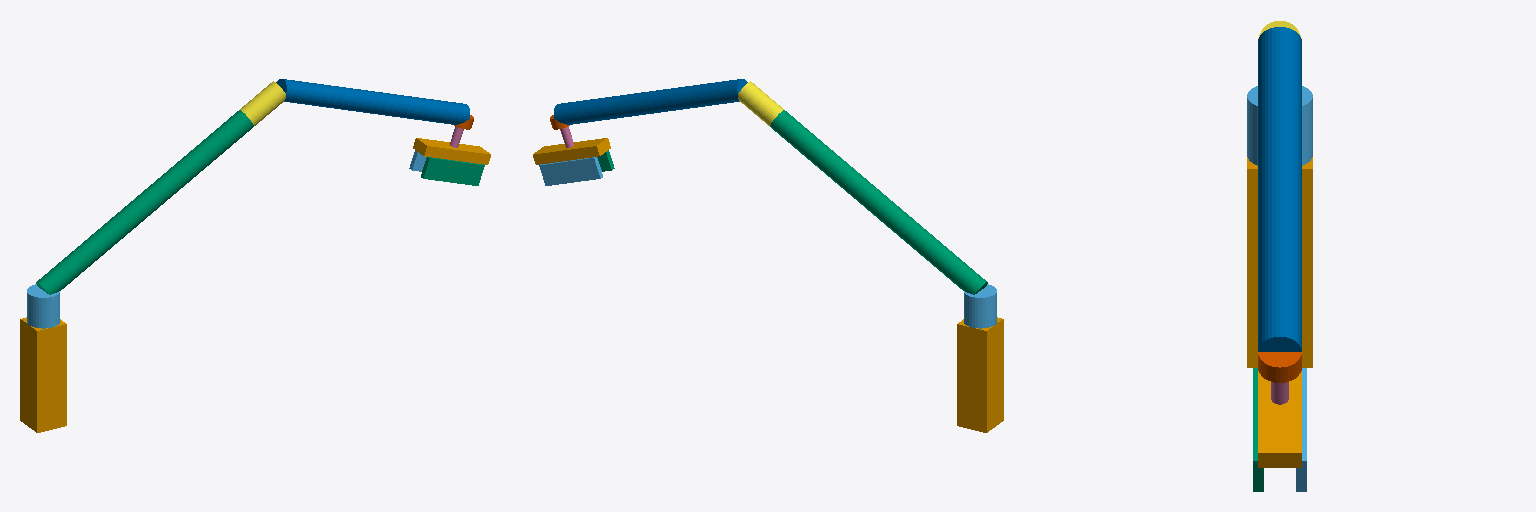
The robot description file, URDF, robot "crane":
<?xml version="1.0" ?>
<robot name="crane">
    <!-- Arm of the crane -->
    <link name="base_link">
        <visual>
            <geometry>
                <box size="1.5 1.5 5" />
            </geometry>
            <origin xyz="0 0 2.5" />
        </visual>
        <collision>
            <geometry>
                <box size="1.5 1.5 5" />
            </geometry>
            <origin xyz="0 0 2.5" />
        </collision>
        
<inertial>
            <mass value="0.1" />
            <inertia ixx="0.03" iyy="0.03" izz="0.03" ixy="0.0" ixz="0.0" iyz="0.0" />
        </inertial>

    </link>
    <joint name="base_to_link1" type="continuous">
        <axis xyz="0 0 1" />
        <parent link="base_link" />
        <child link="link1" />
        <origin xyz="0 0 5" />
    </joint>
    <link name="link1">
        <visual>
            <geometry>
                <cylinder length="1.5" radius="0.75" />
            </geometry>
            <origin rpy="0 0 0" xyz="0 0 0.75" />
        </visual>
        <collision>
            <geometry>
                <cylinder length="1.5" radius="0.75" />
            </geometry>
            <origin rpy="0 0 0" xyz="0 0 0.75" />
        </collision>
        
<inertial>
            <mass value="0.1" />
            <inertia ixx="0.03" iyy="0.03" izz="0.03" ixy="0.0" ixz="0.0" iyz="0.0" />
        </inertial>

    </link>
    <joint name="link1_to_link2" type="revolute">
        <axis xyz="0 0 1" />
        <limit effort="1000" upper="-0.175" lower="-0.873" velocity="1" />
        <parent link="link1" />
        <child link="link2" />
        <origin rpy="-1.5707963 0 0" xyz="0 0 1.5" />
    </joint>
    <link name="link2">
        <visual>
            <geometry>
                <cylinder length="12" radius="0.5" />
            </geometry>
            <origin rpy="0 -1.5707963 0" xyz="6 0 0" />
        </visual>
        <collision>
            <geometry>
                <cylinder length="12" radius="0.5" />
            </geometry>
            <origin rpy="0 -1.5707963 0" xyz="6 0 0" />
        </collision>
        
<inertial>
            <mass value="0.1" />
            <inertia ixx="0.03" iyy="0.03" izz="0.03" ixy="0.0" ixz="0.0" iyz="0.0" />
        </inertial>

    </link>
    <joint name="Link2_to_link3" type="revolute">
        <axis xyz="0 0 1" />
        <limit effort="1000" lower="0" upper="1.5707963" velocity="1" />
        <parent link="link2" />
        <child link="link3" />
        <origin xyz="12 0 0" />
    </joint>
    <link name="link3">
        <visual>
            <geometry>
                <cylinder length="2" radius="0.5" />
            </geometry>
            <origin rpy="0 -1.5707963 0" xyz="1 0 0" />
        </visual>
        <collision>
            <geometry>
                <cylinder length="2" radius="0.5" />
            </geometry>
            <origin rpy="0 -1.5707963 0" xyz="1 0 0" />
        </collision>
        
<inertial>
            <mass value="0.1" />
            <inertia ixx="0.03" iyy="0.03" izz="0.03" ixy="0.0" ixz="0.0" iyz="0.0" />
        </inertial>

    </link>
    <joint name="Link3_to_Link4" type="revolute">
        <axis xyz="0 0 1" />
        <limit effort="1000" lower="0.175" upper="1.5707963" velocity="1" />
        <parent link="link3" />
        <child link="link4" />
        <origin xyz="2 0 0" />
    </joint>
    <link name="link4">
        <visual>
            <geometry>
                <cylinder length="10" radius="0.5" />
            </geometry>
            <origin rpy="0 -1.5707936 0" xyz="5 0 0" />
        </visual>
        <collision>
            <geometry>
                <cylinder length="10" radius="0.5" />
            </geometry>
            <origin rpy="0 -1.5707936 0" xyz="5 0 0" />
        </collision>
        
<inertial>
            <mass value="0.1" />
            <inertia ixx="0.03" iyy="0.03" izz="0.03" ixy="0.0" ixz="0.0" iyz="0.0" />
        </inertial>

    </link>
    <joint name="Link4_to_Link5" type="revolute">
        <axis xyz="0 0 1" />
        <limit effort="1000" lower="-3.14" upper="0.23" velocity="1" />
        <parent link="link4" />
        <child link="link5" />
        <origin xyz="10 0 0" />
    </joint>
    <link name="link5">
        <visual>
            <geometry>
                <cylinder length="0.5" radius="0.5" />
            </geometry>
            <origin rpy="-1.5707936 -1.5707936 0" xyz="0 0.25 0" />
        </visual>
        <collision>
            <geometry>
                <cylinder length="0.5" radius="0.5" />
            </geometry>
            <origin rpy="-1.5707936 -1.5707936 0" xyz="0 0.25 0" />
        </collision>
        
<inertial>
            <mass value="0.1" />
            <inertia ixx="0.03" iyy="0.03" izz="0.03" ixy="0.0" ixz="0.0" iyz="0.0" />
        </inertial>

    </link>
    <joint name="link5_to_link6" type="continuous">
        <axis xyz="0 0 1" />
        <parent link="link5" />
        <child link="link6" />
        <origin rpy="-1.5707936 0 0" xyz="0 0.5 0" />
    </joint>
    <link name="link6">
        <visual>
            <geometry>
                <cylinder length="1.0" radius="0.2" />
            </geometry>
            <origin xyz="0 0 0.5" />
        </visual>
        <collision>
            <geometry>
                <cylinder length="1.0" radius="0.2" />
            </geometry>
            <origin xyz="0 0 0.5" />
        </collision>
        
<inertial>
            <mass value="0.1" />
            <inertia ixx="0.03" iyy="0.03" izz="0.03" ixy="0.0" ixz="0.0" iyz="0.0" />
        </inertial>

    </link>
    <joint name="link6_to_link7" type="revolute">
        <axis xyz="0 1 0" />
        <limit effort="1000" lower="-0.05" upper="0.05" velocity="1" />
        <parent link="link6" />
        <child link="link7" />
        <origin xyz="0 0 1" />
    </joint>
    <link name="link7" />
    <joint name="link7_to_gripper" type="fixed">
        <parent link="link7" />
        <child link="gripper_base" />
        <origin rpy="0 0 0" xyz="0 0 0" />
    </joint>
    <!-- Start of gripper -->
    <link name="gripper_base">
        <visual>
            <geometry>
                <box size="3.5 1 0.5" />
            </geometry>
            <origin xyz="0 0 0.25" />
        </visual>
        <collision>
            <geometry>
                <box size="3.5 1 0.5" />
            </geometry>
            <origin xyz="0 0 0.25" />
        </collision>
        
<inertial>
            <mass value="0.1" />
            <inertia ixx="0.03" iyy="0.03" izz="0.03" ixy="0.0" ixz="0.0" iyz="0.0" />
        </inertial>

    </link>
    <!-- Gripper in the front -->
    <joint name="gbase_to_lg" type="prismatic">
        <axis xyz="0 1 0" />
        <limit effort="1000" lower="0" upper="0.25" velocity="1" />
        <parent link="gripper_base" />
        <child link="lgripper" />
        <origin xyz="0 -0.5 0.5" />
    </joint>
    <link name="lgripper">
        <visual>
            <geometry>
                <box size="3 0.25 1" />
            </geometry>
            <origin xyz="0 0 0.5" />
        </visual>
        <collision>
            <geometry>
                <box size="1 0.15 0.5" />
            </geometry>
            <origin xyz="0.5 0 0" />
        </collision>
        
<inertial>
            <mass value="0.1" />
            <inertia ixx="0.03" iyy="0.03" izz="0.03" ixy="0.0" ixz="0.0" iyz="0.0" />
        </inertial>

    </link>
    <joint name="gbase_to_rg" type="prismatic">
        <axis xyz="0 -1 0" />
        <limit effort="1000" lower="0" upper="0.25" velocity="1" />
        <parent link="gripper_base" />
        <child link="rgripper" />
        <origin xyz="0 0.5 0.5" />
    </joint>
    <link name="rgripper">
        <visual>
            <geometry>
                <box size="3 0.25 1" />
            </geometry>
            <origin xyz="0 0 0.5" />
        </visual>
        <collision>
            <geometry>
                <box size="0.15 1 0.5" />
            </geometry>
            <origin xyz="0 0.5 0" />
        </collision>
        
<inertial>
            <mass value="0.1" />
            <inertia ixx="0.03" iyy="0.03" izz="0.03" ixy="0.0" ixz="0.0" iyz="0.0" />
        </inertial>

    </link>
    
<transmission name="trans_base_to_link1">
        <type>transmission_interface/SimpleTransmission</type>
        <joint name="base_to_link1">
            <hardwareInterface>hardware_interface/EffortJointInterface</hardwareInterface>
        </joint>
        <actuator name="base_to_link1_motor">
            <hardwareInterface>hardware_interface/EffortJointInterface</hardwareInterface>
            <mechanicalReduction>1</mechanicalReduction>
        </actuator>
    </transmission>
    <transmission name="trans_link1_to_link2">
        <type>transmission_interface/SimpleTransmission</type>
        <joint name="link1_to_link2">
            <hardwareInterface>hardware_interface/EffortJointInterface</hardwareInterface>
        </joint>
        <actuator name="link1_to_link2_motor">
            <hardwareInterface>hardware_interface/EffortJointInterface</hardwareInterface>
            <mechanicalReduction>1</mechanicalReduction>
        </actuator>
    </transmission>
    <transmission name="trans_Link2_to_link3">
        <type>transmission_interface/SimpleTransmission</type>
        <joint name="Link2_to_link3">
            <hardwareInterface>hardware_interface/EffortJointInterface</hardwareInterface>
        </joint>
        <actuator name="Link2_to_link3_motor">
            <hardwareInterface>hardware_interface/EffortJointInterface</hardwareInterface>
            <mechanicalReduction>1</mechanicalReduction>
        </actuator>
    </transmission>
    <transmission name="trans_Link3_to_Link4">
        <type>transmission_interface/SimpleTransmission</type>
        <joint name="Link3_to_Link4">
            <hardwareInterface>hardware_interface/EffortJointInterface</hardwareInterface>
        </joint>
        <actuator name="Link3_to_Link4_motor">
            <hardwareInterface>hardware_interface/EffortJointInterface</hardwareInterface>
            <mechanicalReduction>1</mechanicalReduction>
        </actuator>
    </transmission>
    <transmission name="trans_Link4_to_Link5">
        <type>transmission_interface/SimpleTransmission</type>
        <joint name="Link4_to_Link5">
            <hardwareInterface>hardware_interface/EffortJointInterface</hardwareInterface>
        </joint>
        <actuator name="Link4_to_Link5_motor">
            <hardwareInterface>hardware_interface/EffortJointInterface</hardwareInterface>
            <mechanicalReduction>1</mechanicalReduction>
        </actuator>
    </transmission>
    <transmission name="trans_link5_to_link6">
        <type>transmission_interface/SimpleTransmission</type>
        <joint name="link5_to_link6">
            <hardwareInterface>hardware_interface/EffortJointInterface</hardwareInterface>
        </joint>
        <actuator name="link5_to_link6_motor">
            <hardwareInterface>hardware_interface/EffortJointInterface</hardwareInterface>
            <mechanicalReduction>1</mechanicalReduction>
        </actuator>
    </transmission>
    <transmission name="trans_link6_to_link7">
        <type>transmission_interface/SimpleTransmission</type>
        <joint name="link6_to_link7">
            <hardwareInterface>hardware_interface/EffortJointInterface</hardwareInterface>
        </joint>
        <actuator name="link6_to_link7_motor">
            <hardwareInterface>hardware_interface/EffortJointInterface</hardwareInterface>
            <mechanicalReduction>1</mechanicalReduction>
        </actuator>
    </transmission>
    <transmission name="trans_gbase_to_lg">
        <type>transmission_interface/SimpleTransmission</type>
        <joint name="gbase_to_lg">
            <hardwareInterface>hardware_interface/EffortJointInterface</hardwareInterface>
        </joint>
        <actuator name="gbase_to_lg_motor">
            <hardwareInterface>hardware_interface/EffortJointInterface</hardwareInterface>
            <mechanicalReduction>1</mechanicalReduction>
        </actuator>
    </transmission>
    <transmission name="trans_gbase_to_rg">
        <type>transmission_interface/SimpleTransmission</type>
        <joint name="gbase_to_rg">
            <hardwareInterface>hardware_interface/EffortJointInterface</hardwareInterface>
        </joint>
        <actuator name="gbase_to_rg_motor">
            <hardwareInterface>hardware_interface/EffortJointInterface</hardwareInterface>
            <mechanicalReduction>1</mechanicalReduction>
        </actuator>
    </transmission>
    <gazebo>
        <plugin name="gazebo_ros_control" filename="libgazebo_ros_control.so">
            <robotNamespace>/</robotNamespace>
        </plugin>
    </gazebo>
</robot>

--- What the picture shows (computed from the rendered views, not written in the file) ---
The picture shows the robot from 3 angles, left to right: view 1: azimuth 30°, elevation 25°; view 2: azimuth 150°, elevation 25°; view 3: azimuth 270°, elevation 25°; orthographic projection.
Model crane with 11 links and 10 joints (5 revolute, 2 continuous, 2 prismatic, 1 fixed), rooted at base_link, posed joints at zero except 2 at the middle of their limits (link1_to_link2 = -0.524, Link3_to_Link4 = 0.8729).
Links seen in each view (by area): view 1: link2, base_link, link4, rgripper, gripper_base, link1, link3; view 2: link2, base_link, link4, lgripper, gripper_base, link1, link3; view 3: link4, base_link, gripper_base, link1, link5, lgripper, rgripper.
Boxes of the visible links, left/top/right/bottom form: link2: left=36, top=110, right=253, bottom=294; base_link: left=20, top=317, right=66, bottom=432; link4: left=276, top=79, right=469, bottom=124; rgripper: left=421, top=157, right=484, bottom=185; gripper_base: left=413, top=138, right=490, bottom=164; link1: left=27, top=284, right=59, bottom=328; link3: left=240, top=81, right=285, bottom=125; link2: left=770, top=110, right=987, bottom=294; base_link: left=957, top=317, right=1003, bottom=432; link4: left=554, top=79, right=747, bottom=124; lgripper: left=539, top=157, right=602, bottom=185; gripper_base: left=533, top=138, right=610, bottom=164; link1: left=964, top=284, right=996, bottom=328; link3: left=738, top=81, right=783, bottom=125; link4: left=1258, top=27, right=1301, bottom=351; base_link: left=1247, top=157, right=1312, bottom=367; gripper_base: left=1258, top=371, right=1301, bottom=467; link1: left=1247, top=86, right=1312, bottom=165; link5: left=1258, top=352, right=1301, bottom=382; lgripper: left=1296, top=368, right=1306, bottom=491; rgripper: left=1253, top=368, right=1263, bottom=491.
Size in the robot's own frame: 23.4 by 1.5 by 13.97 metres.
Geometry: primitives only (box / cylinder / sphere), no mesh files.